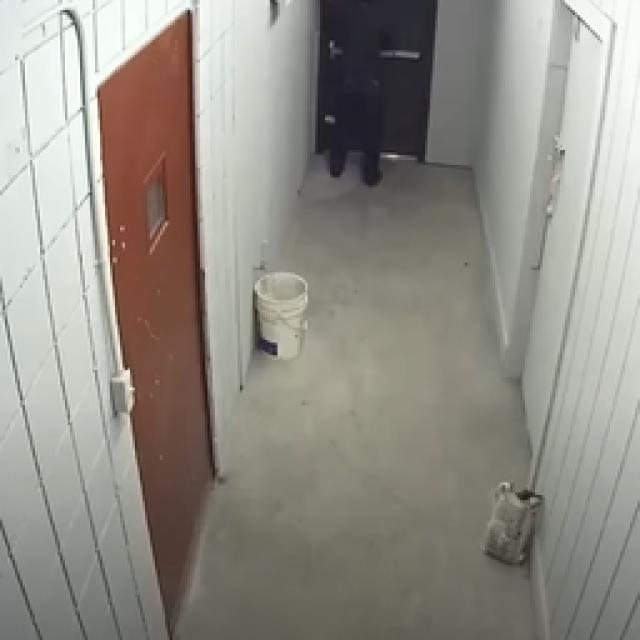person: (328, 0, 389, 184)
